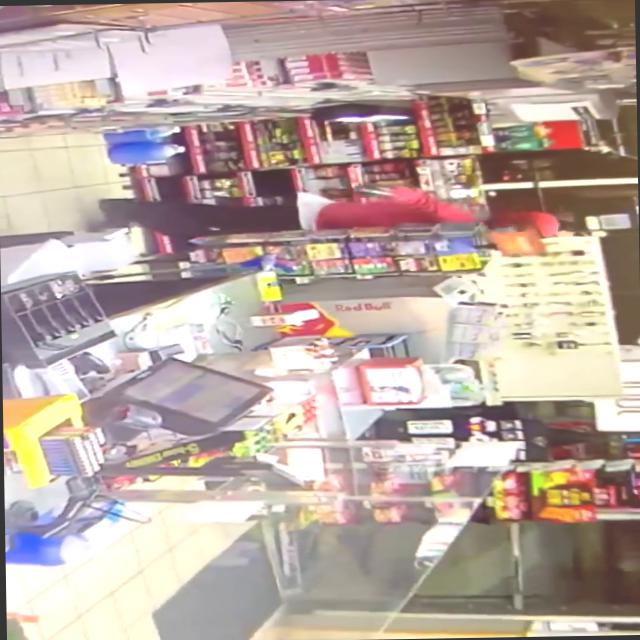handgun: (352, 178, 409, 205)
